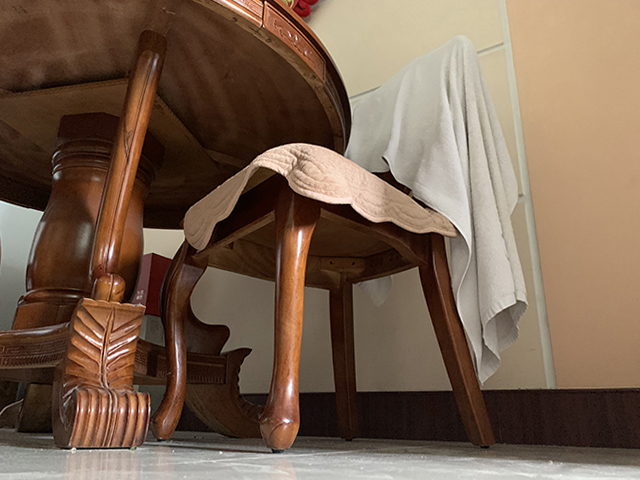stool: (145, 32, 530, 455)
table: (1, 1, 352, 450)
